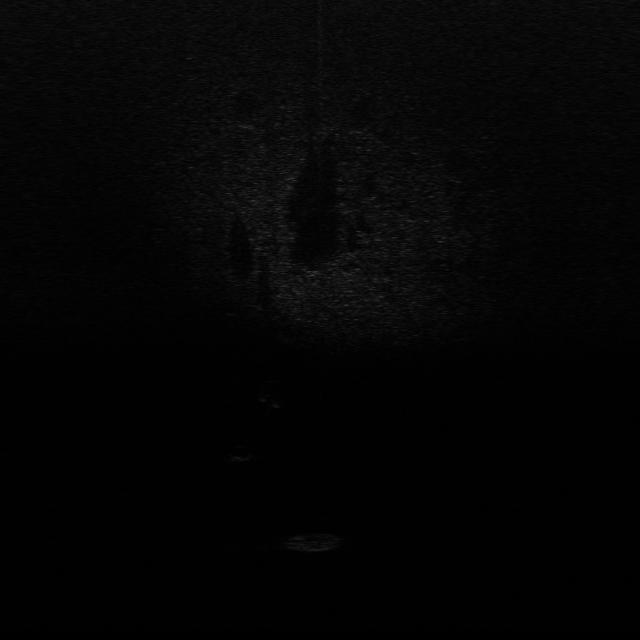ball: (226, 443, 256, 464)
circle cage: (282, 531, 347, 553)
human body: (257, 376, 283, 419)
